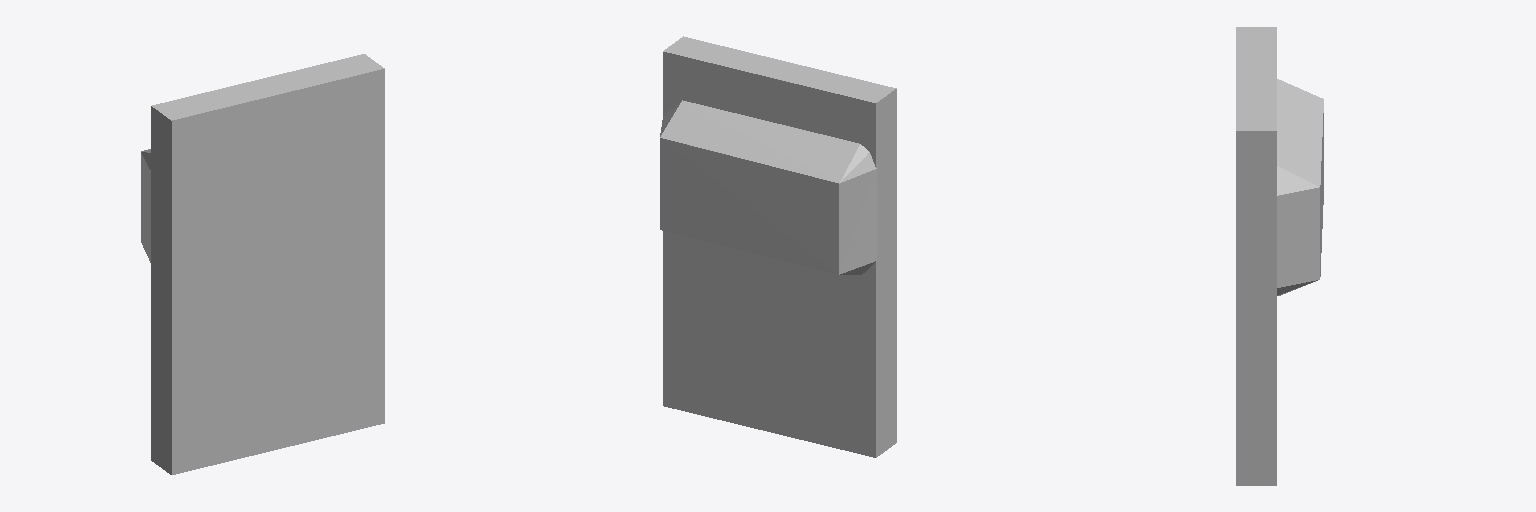
File: window2.obj
The picture shows the model from 3 angles: view 1: azimuth 30°, elevation 25°; view 2: azimuth 150°, elevation 25°; view 3: azimuth 270°, elevation 25°; orthographic projection.
Visible parts, largest first — view 1: Cube.004_Cube; view 2: Cube.004_Cube; view 3: Cube.004_Cube.
Part boxes in pixels (bbox=[...]): Cube.004_Cube: bbox=[141, 54, 384, 474]; Cube.004_Cube: bbox=[660, 36, 896, 457]; Cube.004_Cube: bbox=[1236, 27, 1323, 485].
Bounding box in the file's own units: 3.08 × 4.88 × 1.1.